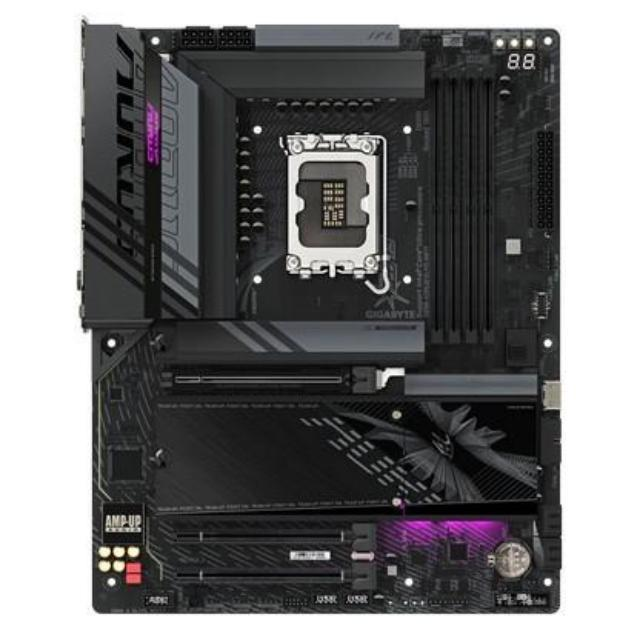Mainboard: (69, 11, 577, 622)
